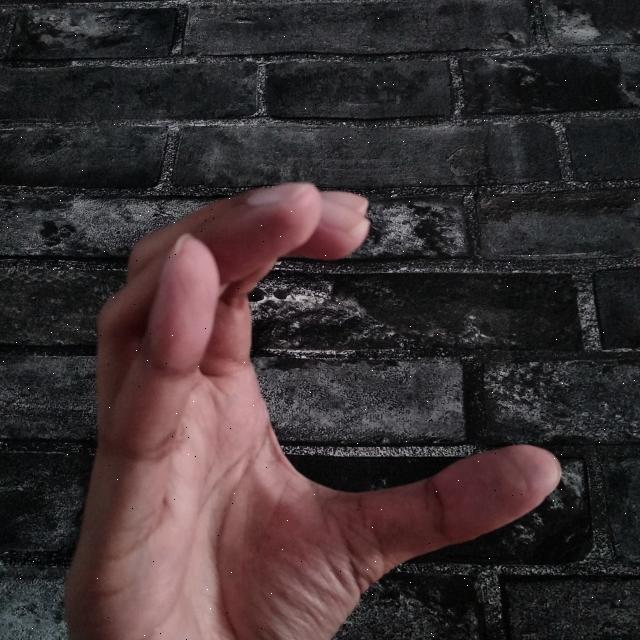C: (66, 171, 571, 640)
